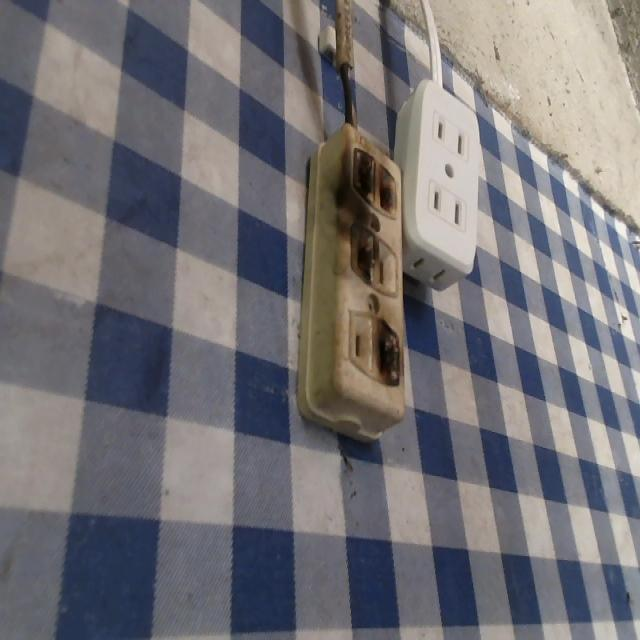-: (342, 138, 409, 222), (370, 316, 412, 403), (340, 216, 380, 291)
